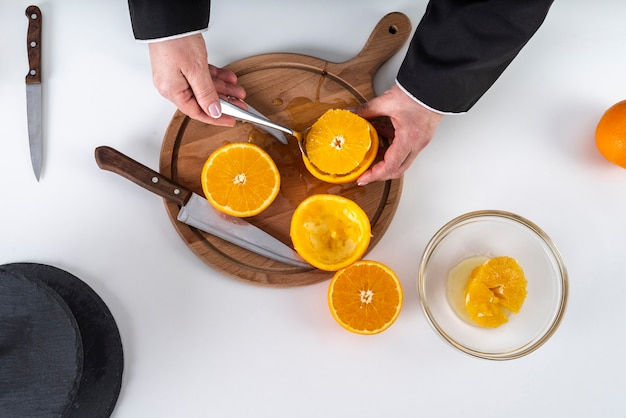knife: (94, 145, 315, 272), (21, 4, 45, 185), (219, 92, 289, 145)
